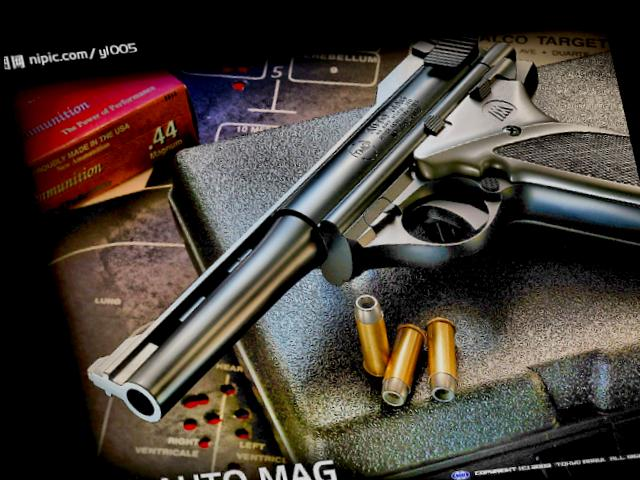pistol: (17, 1, 640, 452)
